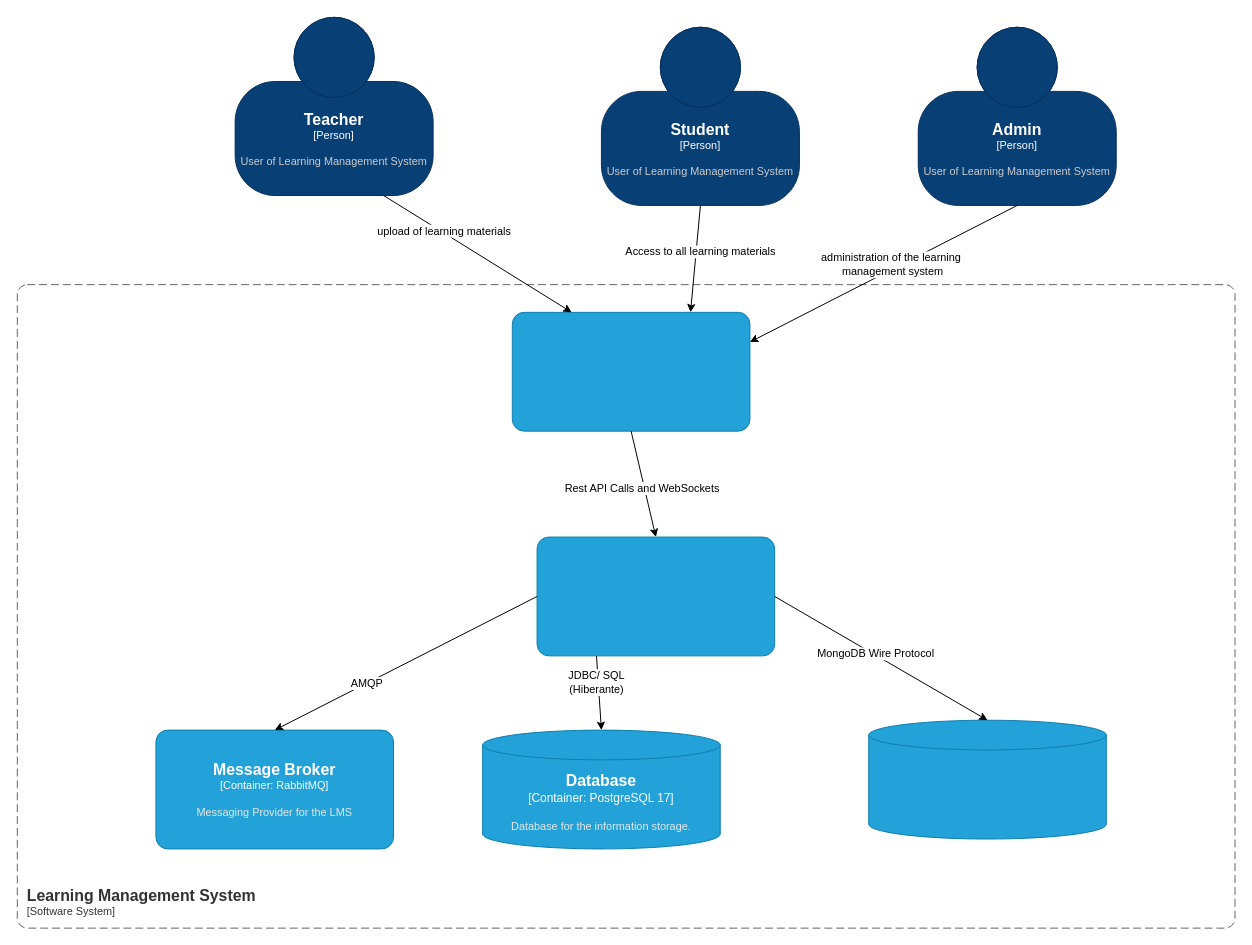
Image size: 1252x945. Some labels were removed from this diagram. The centre of each missing label's shape, as x and y in pixels:
Backend [Container: SpringBoot, ngnix] Backend of the LMS: the point at 655,596
Database [Container: MongoDB] Database for the information storage.: the point at 987,779
Frontend [Container: WebBrowser: React] Frontend of the LMS: the point at 630,371
